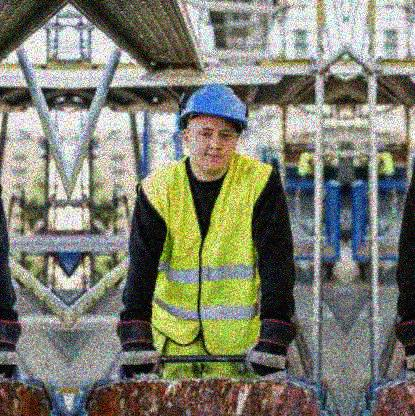helmet: (179, 82, 250, 172), (377, 145, 387, 155), (308, 145, 317, 155)
